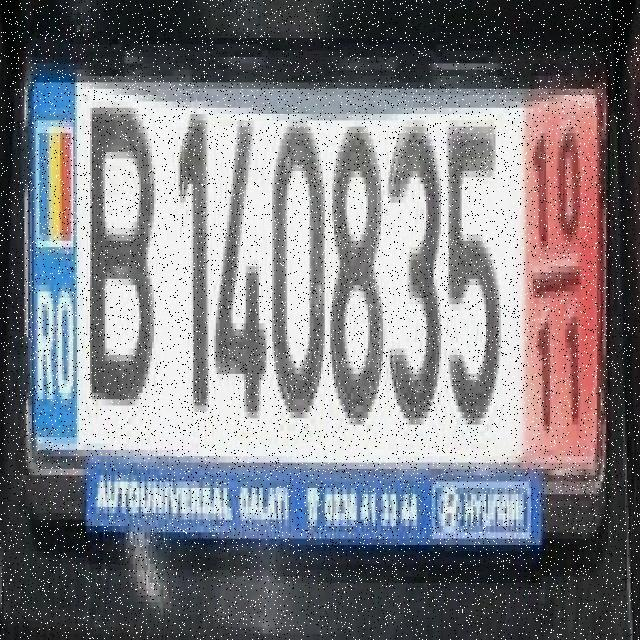licenseplate: (8, 11, 634, 632)
